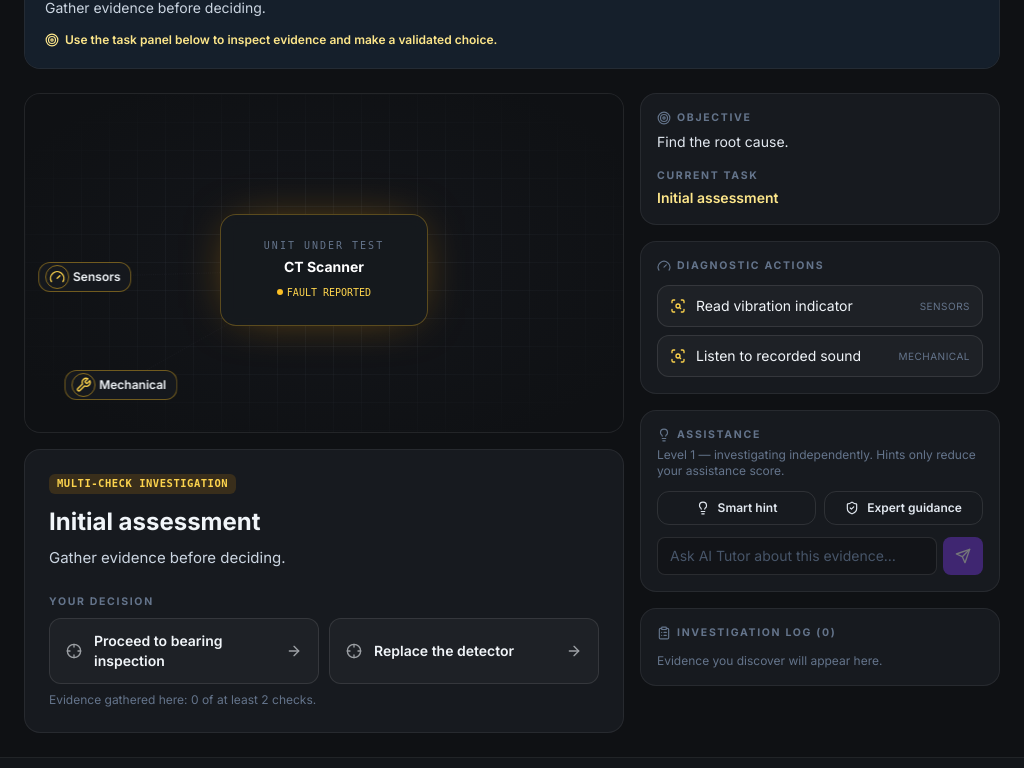
Test: Mission player › filters actions by machine zone
(page scrolled)
Step 1. Click the button with aria-label "Mechanical, checks available" → (121, 385), box [64,370,177,400]
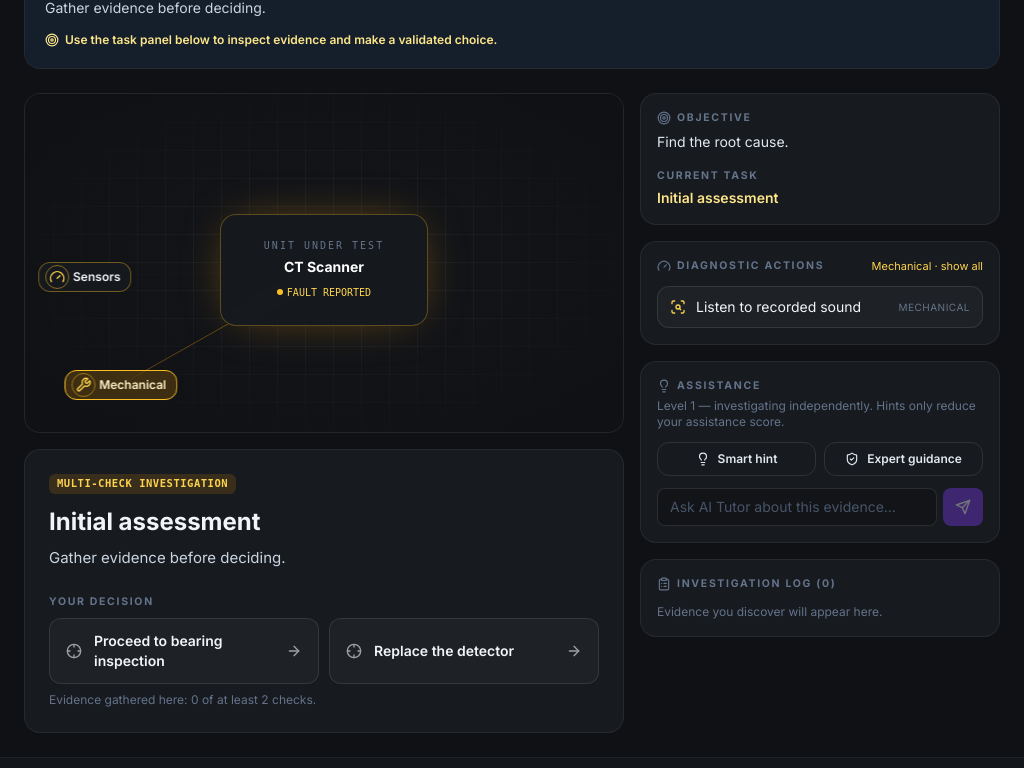
Expected: the button "Listen to recorded sound mechanical" is shown, [657,286,983,328]
Expected: the button "Read vibration indicator" is gone
